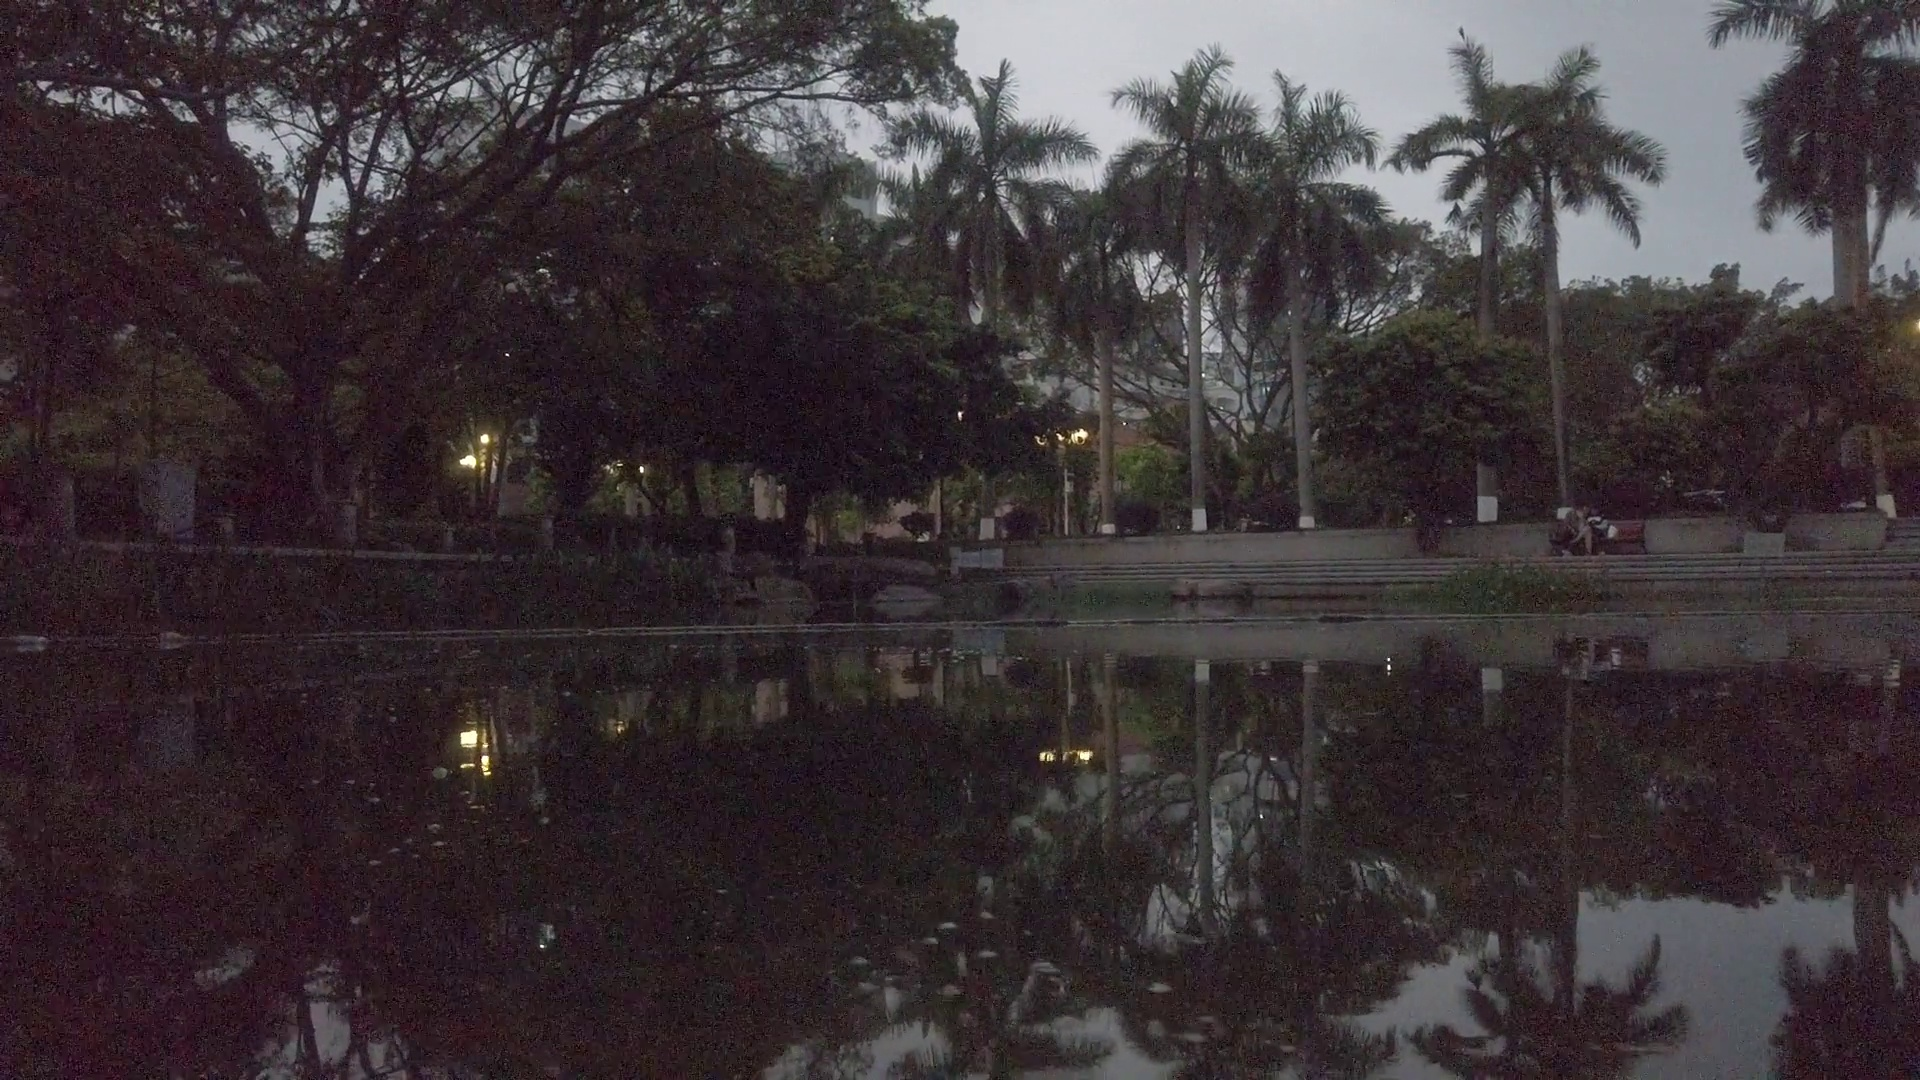bottle: (13, 636, 49, 650), (160, 630, 189, 642)
